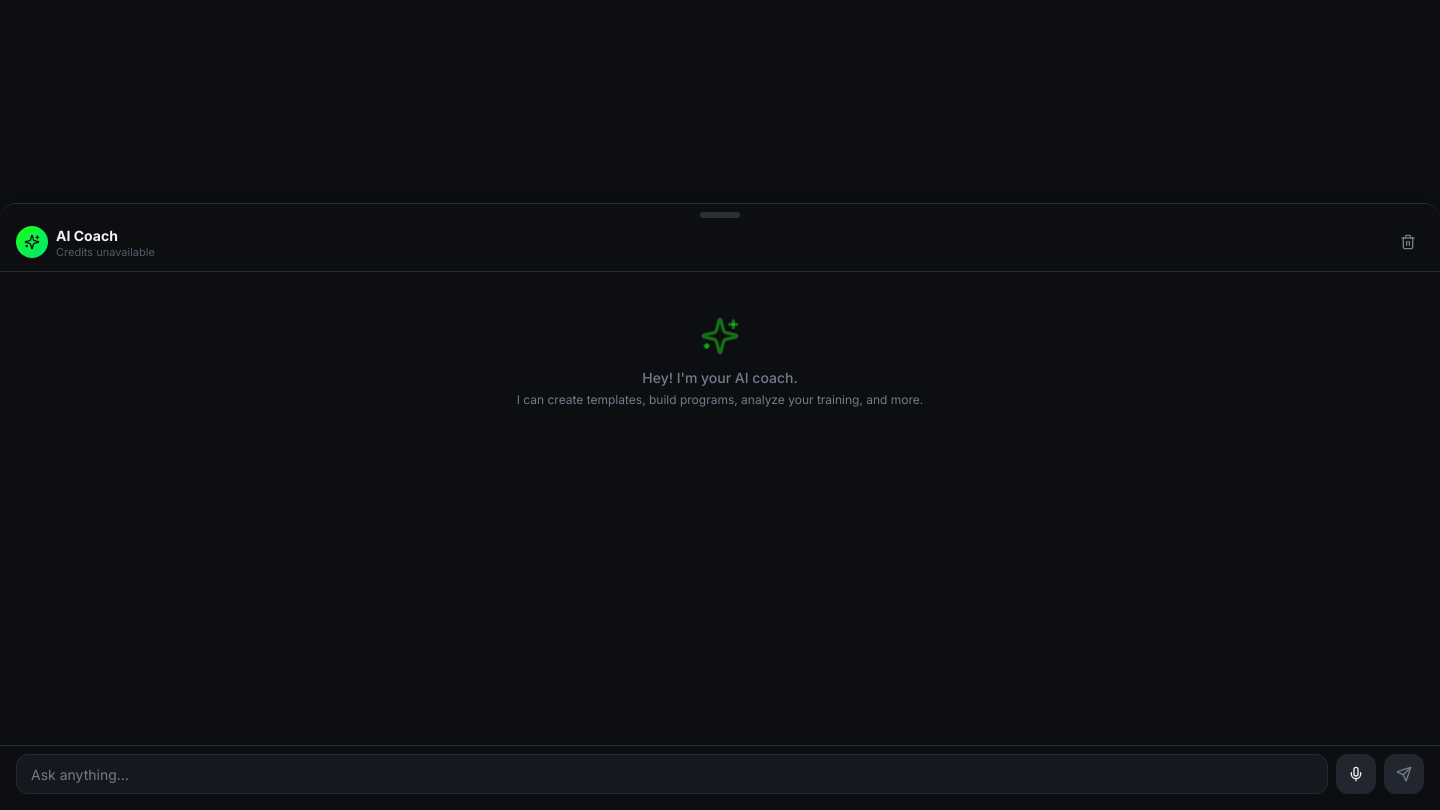
Scenario: AI coach voice input › lets the mic button end the run, taking the finalized phrase
Later steps or results of the test are not shown.
Click the button named "Start voice input": (1356, 774) [1336, 754, 1376, 794]
Wait 900 ms
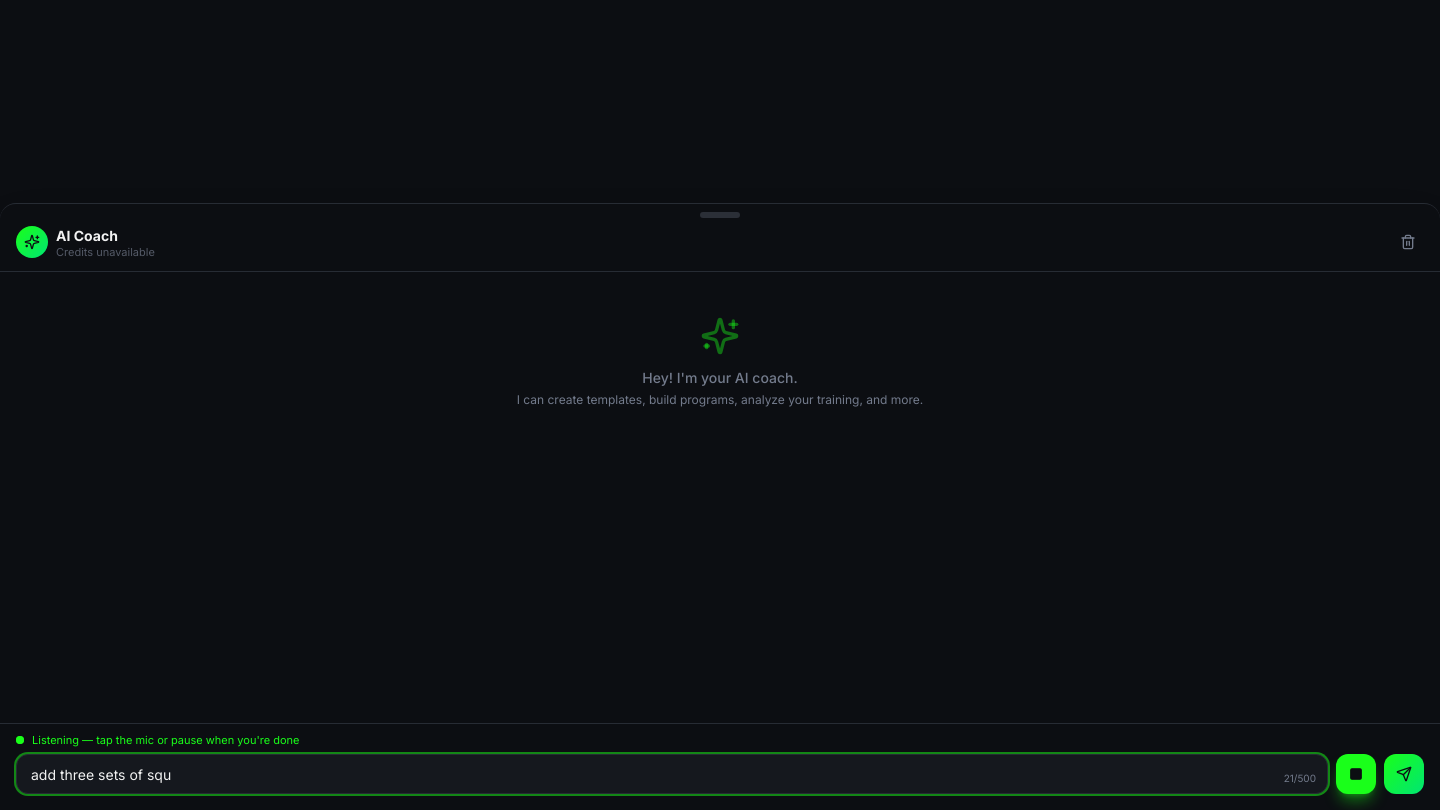
Click the button named "Stop voice input": (1356, 774) [1336, 754, 1376, 794]
Wait 11000 ms
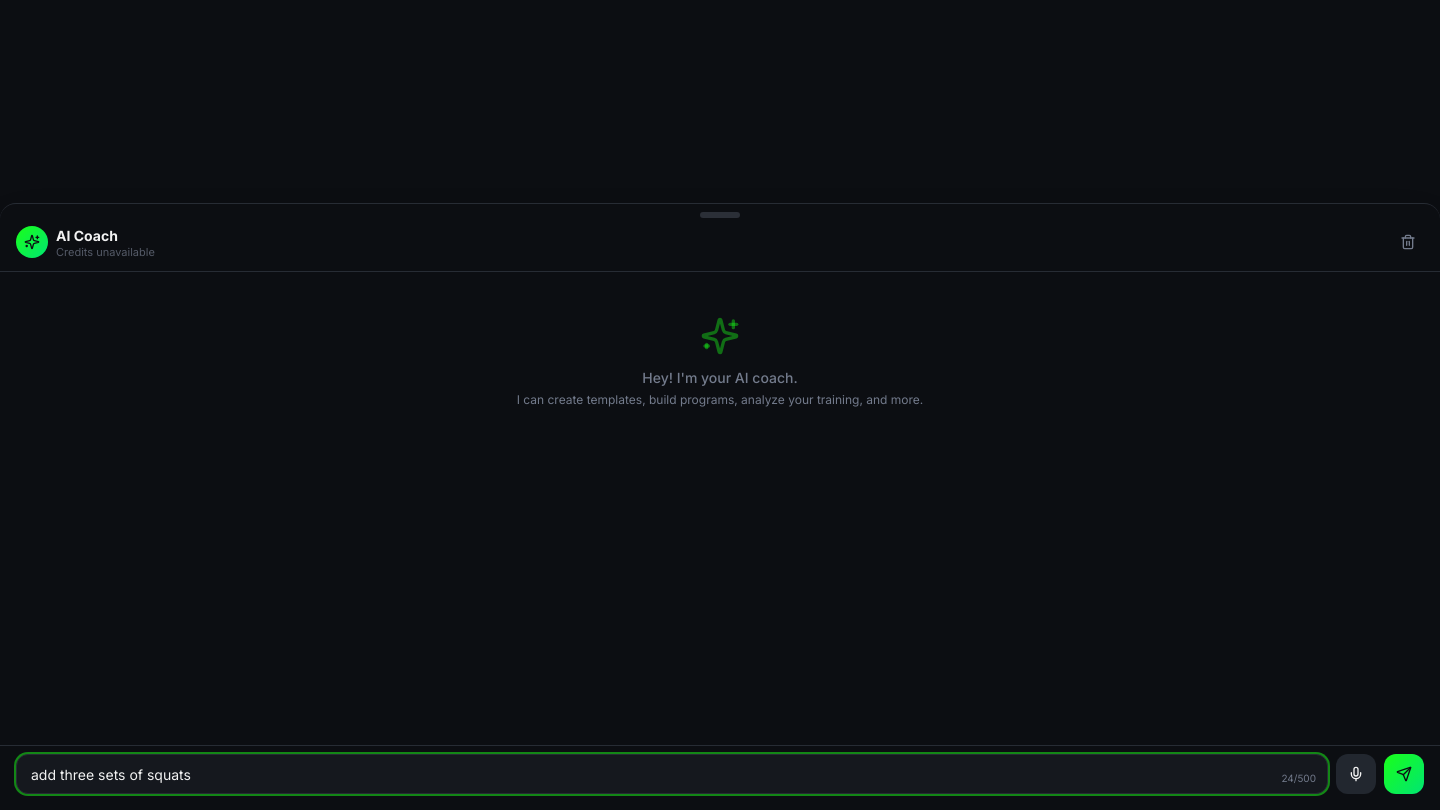
Result: the button named "Start voice input" is shown at [1336, 754, 1376, 794]
Result: the text box holds "add three sets of squats" at [16, 754, 1328, 794]
